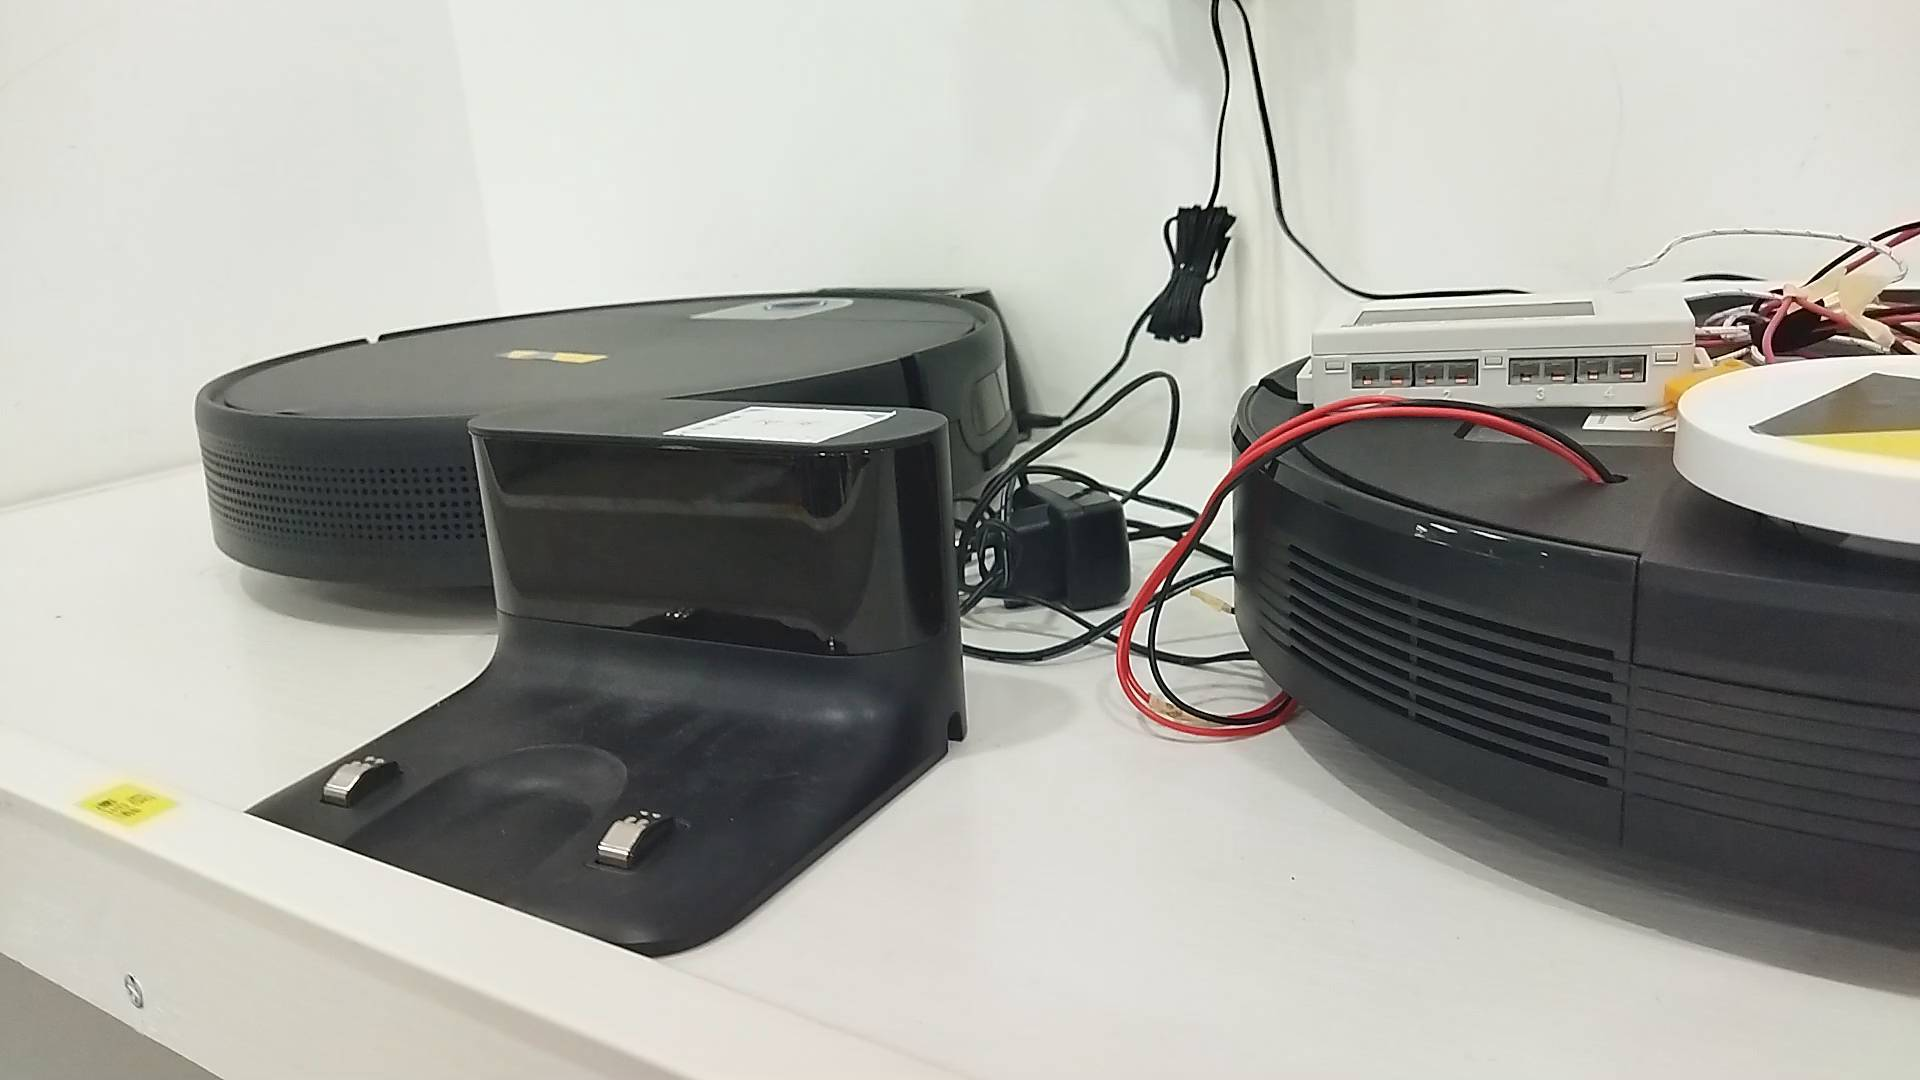recharge seat: (247, 398, 975, 957)
